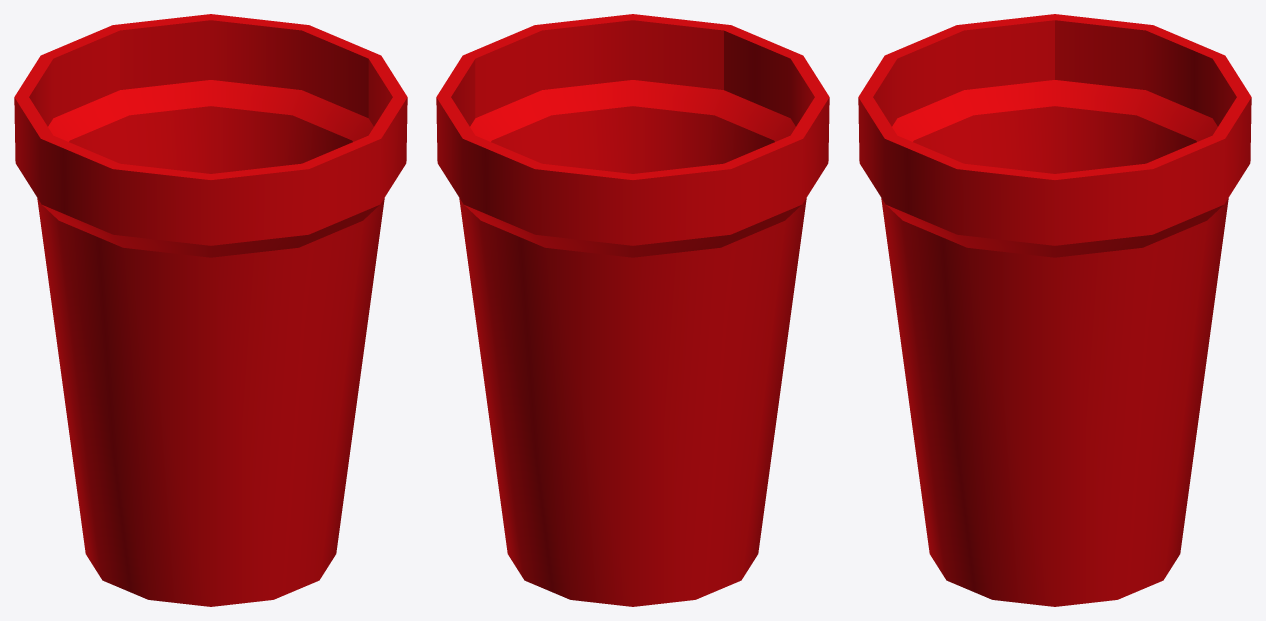
The model's file is BathroomTrashCan.glb.
3 views of the same model, side by side, from view 1: azimuth 30°, elevation 25°; view 2: azimuth 150°, elevation 25°; view 3: azimuth 270°, elevation 25° (orthographic).
Parts seen in each view (by area): view 1: Cylinder.077; view 2: Cylinder.077; view 3: Cylinder.077.
Boxes of the visible parts, x1=… form: Cylinder.077: x1=14, y1=14, x2=407, y2=606; Cylinder.077: x1=436, y1=14, x2=829, y2=606; Cylinder.077: x1=858, y1=14, x2=1251, y2=606.
Size of the model in its own units: 1.38 by 1.77 by 1.38.
